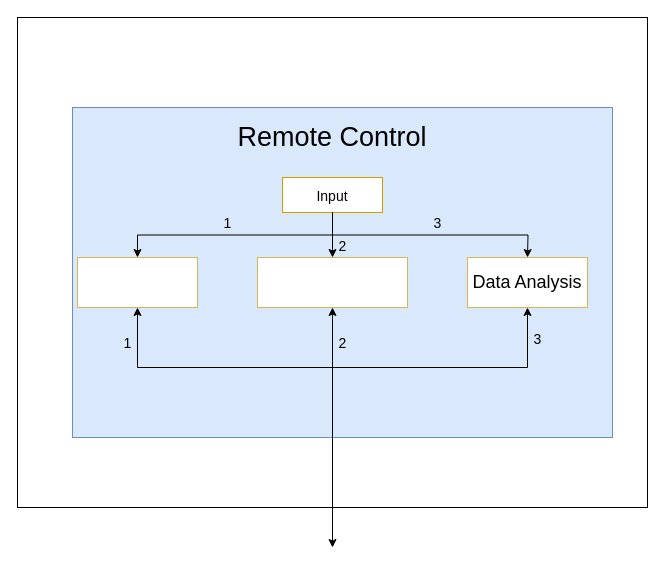
The diagram is 665 pixels wide and 574 high, and some of its shapes have lost their labels. Each missing label, with the centre of its shape:
"Authentication" goes at point (332, 282).
"Front-end" goes at point (137, 282).
